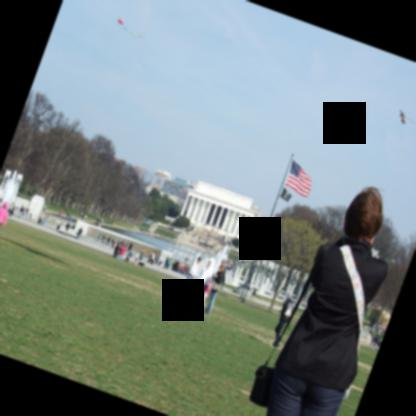handbag: (247, 280, 311, 409), (339, 242, 364, 399), (210, 279, 222, 291)
